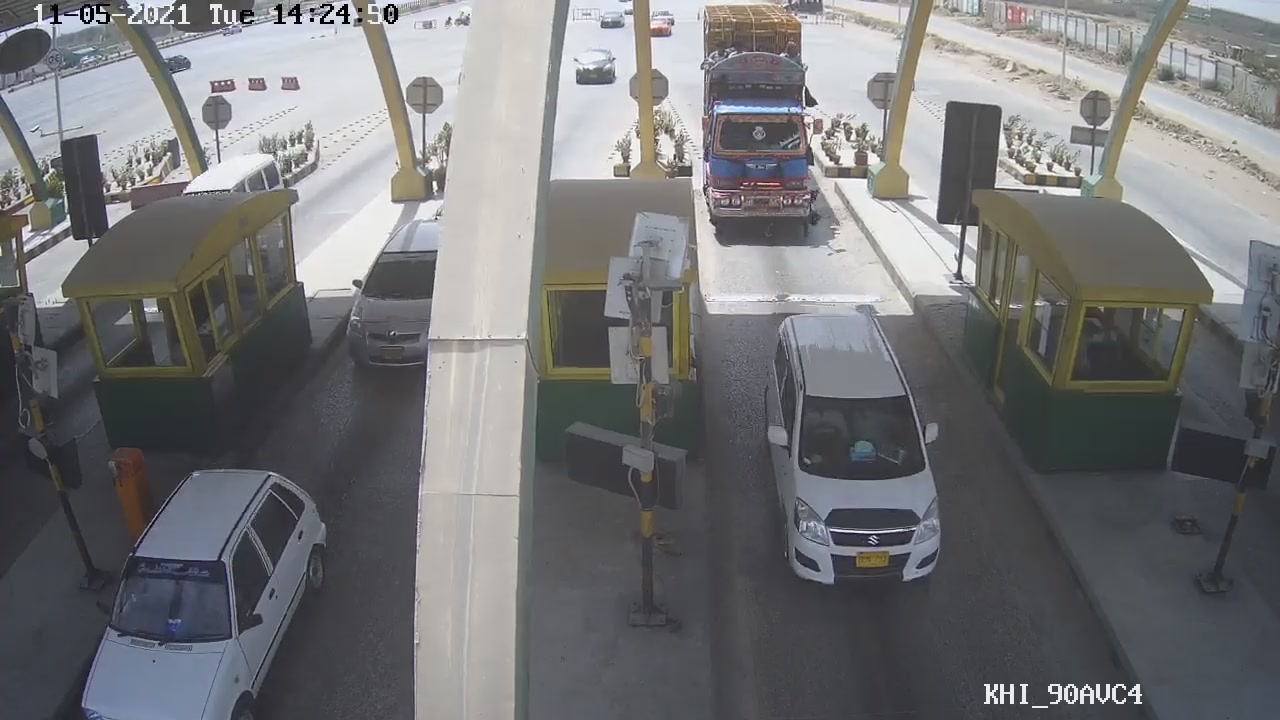F1: (759, 303, 948, 589)
